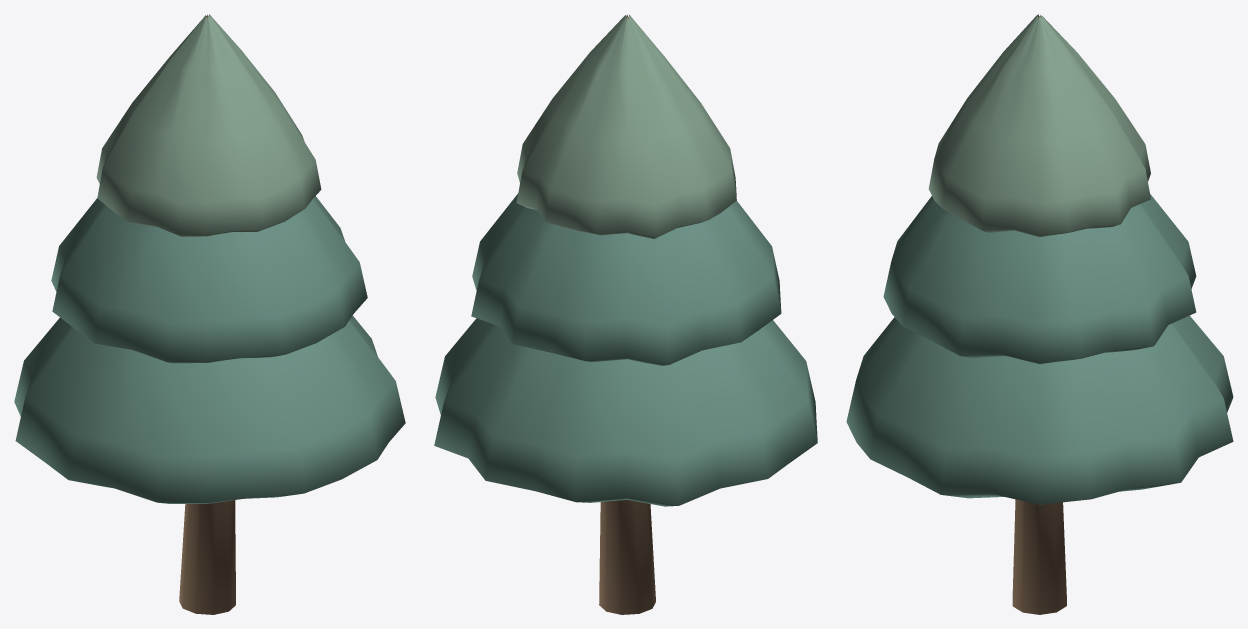
File: SM_Pine_1.fbx
The picture shows the model from 3 angles, left to right: view 1: azimuth 30°, elevation 25°; view 2: azimuth 150°, elevation 25°; view 3: azimuth 270°, elevation 25°; orthographic projection.
Visible parts, largest first — view 1: SM_Pine_1; view 2: SM_Pine_1; view 3: SM_Pine_1.
Boxes of the visible parts, <box> form: SM_Pine_1: <box>14,14,405,614</box>; SM_Pine_1: <box>434,14,817,614</box>; SM_Pine_1: <box>846,14,1233,614</box>.
Bounding box in the file's own units: 479 × 474 × 794.
